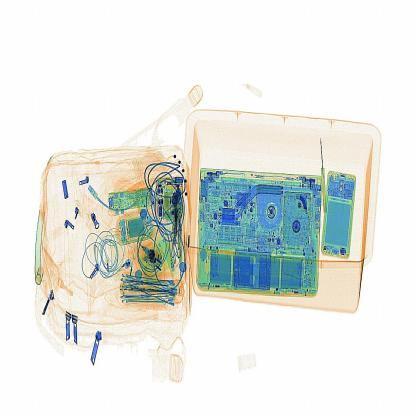wrench: (314, 127, 338, 219)
